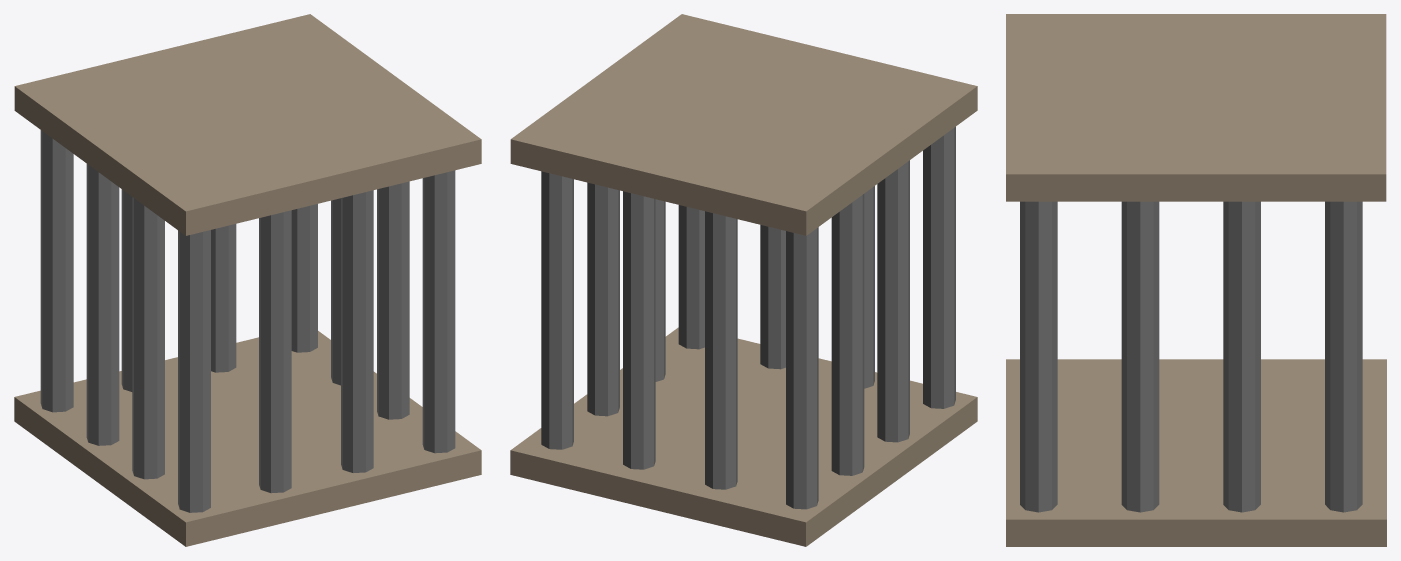
Rendered from Jaula.fbx.
The picture shows the model from 3 angles, left to right: view 1: azimuth 30°, elevation 25°; view 2: azimuth 150°, elevation 25°; view 3: azimuth 270°, elevation 25°; orthographic projection. The views are drawn at different scales.
Visible parts, largest first — view 1: Cylinder.003; view 2: Cylinder.003; view 3: Cylinder.003.
Boxes of the visible parts, x1=… form: Cylinder.003: x1=14, y1=14, x2=481, y2=546; Cylinder.003: x1=510, y1=14, x2=977, y2=546; Cylinder.003: x1=1006, y1=14, x2=1386, y2=546.
Bounding box in the file's own units: 299 × 325 × 301.
